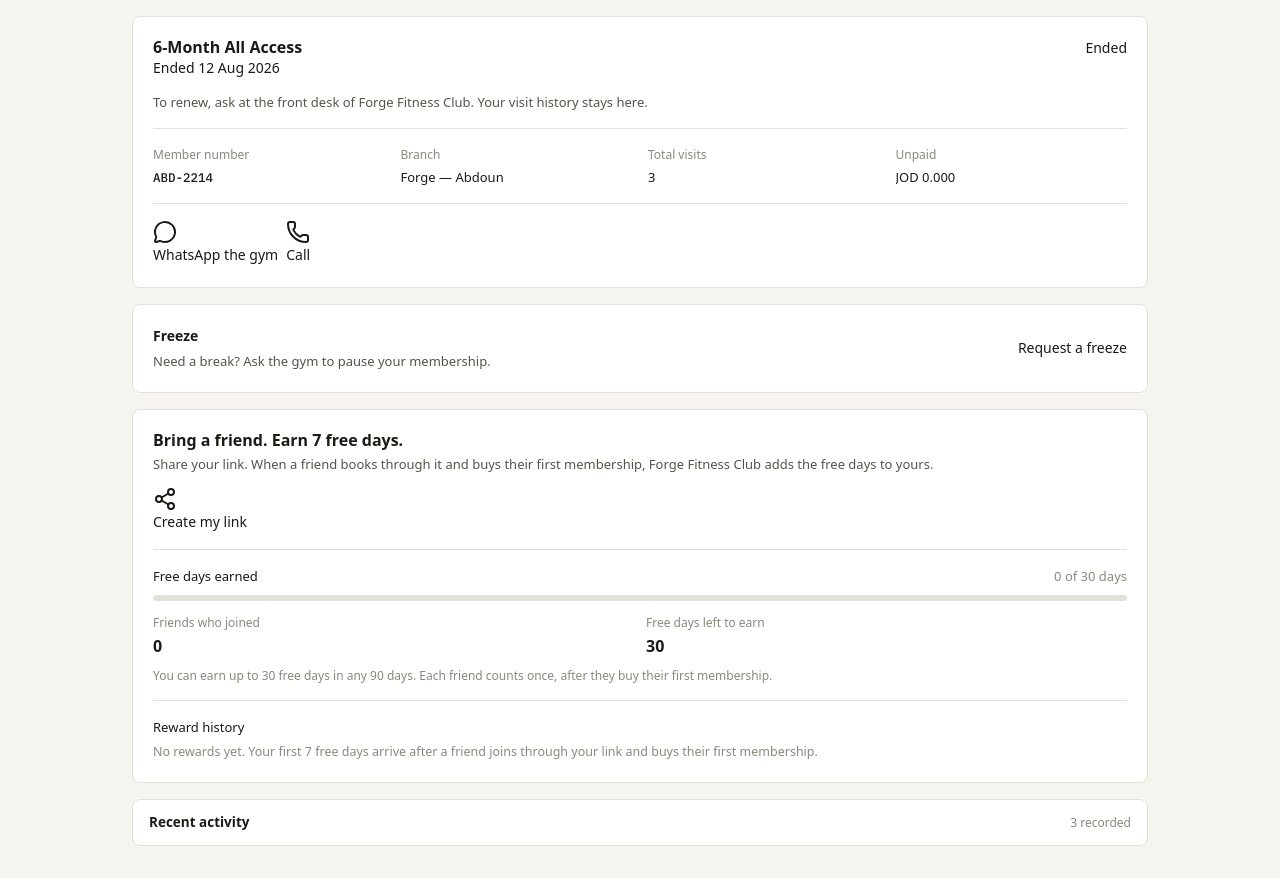
Scenario: member visit history › keeps recent activity collapsed until the member opens it
(page scrolled)
Click the text "Recent activity" at (199, 822), box [149,812,250,833]
(page scrolled)
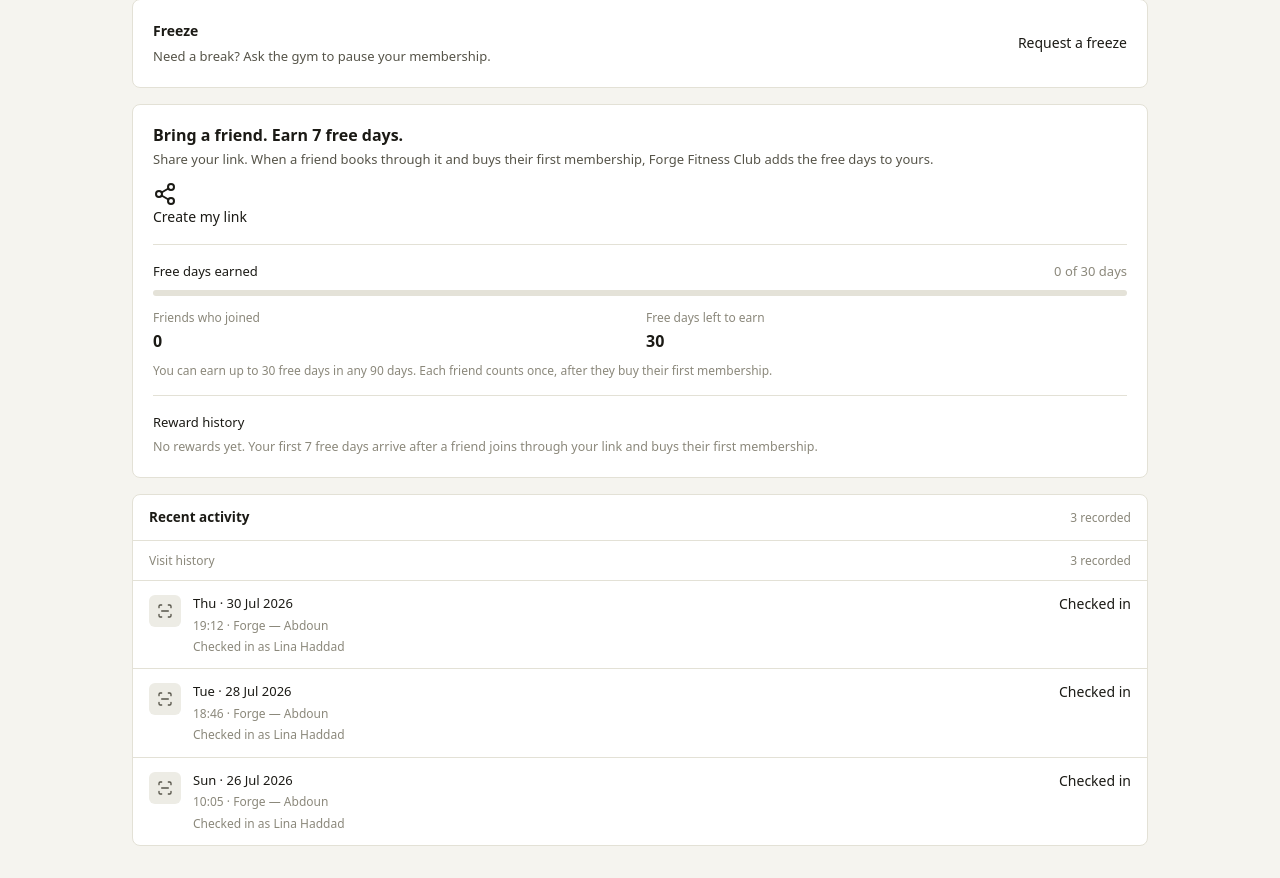
expect the heading "Visit history" is shown: met, box [149,551,214,570]
expect the text "Thu · 30 Jul 2026" is shown: met, box [193,594,293,612]
expect the text "19:12 · Forge — Abdoun" is shown: met, box [193,617,328,634]
